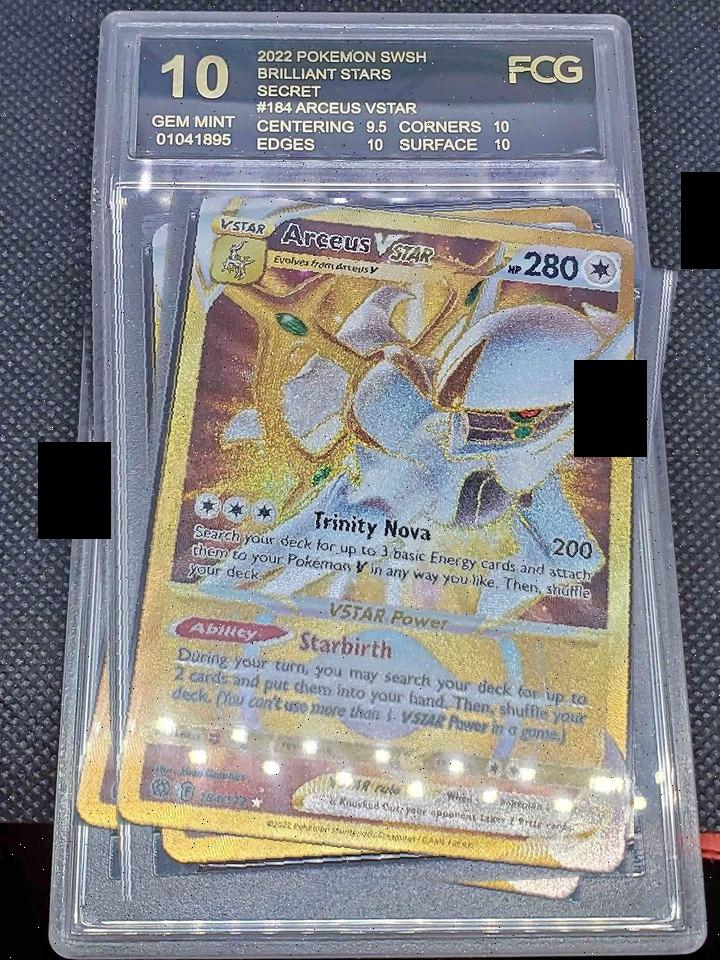card: (116, 198, 634, 876)
